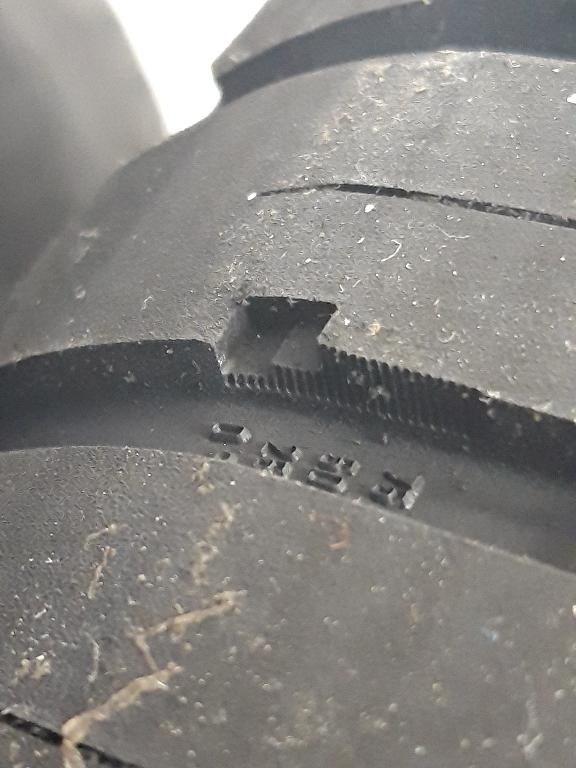temoin:50: (197, 281, 395, 435)
